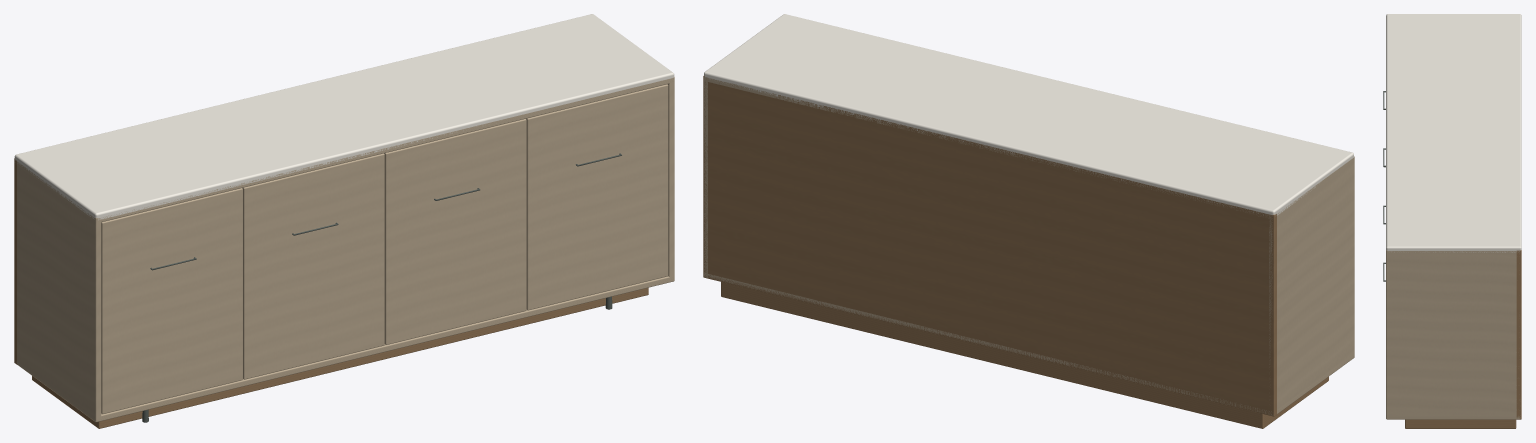
3 renders of one model, left to right at view 1: azimuth 30°, elevation 25°; view 2: azimuth 150°, elevation 25°; view 3: azimuth 270°, elevation 25°, orthographic. The views are drawn at different scales.
Visible parts, largest first — view 1: worktop, front_0_2, front_0_3, front_0_1, front_0_0, side_-1, plinth, bottom, top, side_1, back; view 2: back, worktop, side_-1, plinth, bottom, top, side_1; view 3: worktop, side_1, plinth, back, bottom, top.
Part boxes in pixels (x1,y1,x2,y2): worktop: [14, 14, 674, 220]; front_0_2: [384, 119, 526, 344]; front_0_3: [526, 84, 668, 310]; front_0_1: [242, 153, 384, 379]; front_0_0: [101, 188, 242, 414]; side_-1: [17, 165, 101, 421]; plinth: [32, 287, 648, 428]; bottom: [16, 276, 674, 422]; top: [14, 76, 674, 222]; side_1: [667, 77, 674, 282]; back: [14, 158, 16, 364]; back: [703, 76, 1276, 416]; worktop: [704, 14, 1353, 215]; side_-1: [1269, 157, 1354, 409]; plinth: [721, 282, 1328, 428]; bottom: [704, 273, 1354, 415]; top: [704, 77, 1354, 218]; side_1: [704, 77, 707, 277]; worktop: [1386, 14, 1521, 252]; side_1: [1386, 250, 1516, 419]; plinth: [1405, 419, 1516, 428]; back: [1516, 250, 1521, 419]; bottom: [1386, 415, 1520, 419]; top: [1386, 250, 1519, 254].
Bounding box in the file's own units: 2.4 × 0.9 × 0.6.
4 materials, 2 textured.
